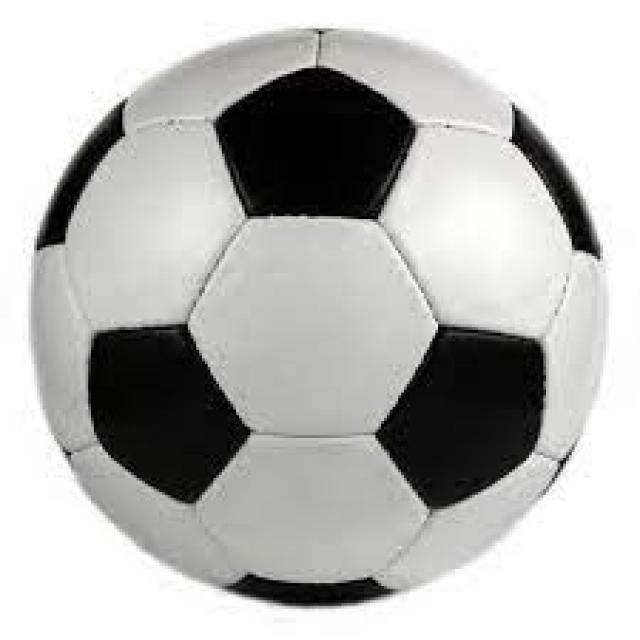ball: (25, 30, 610, 608)
